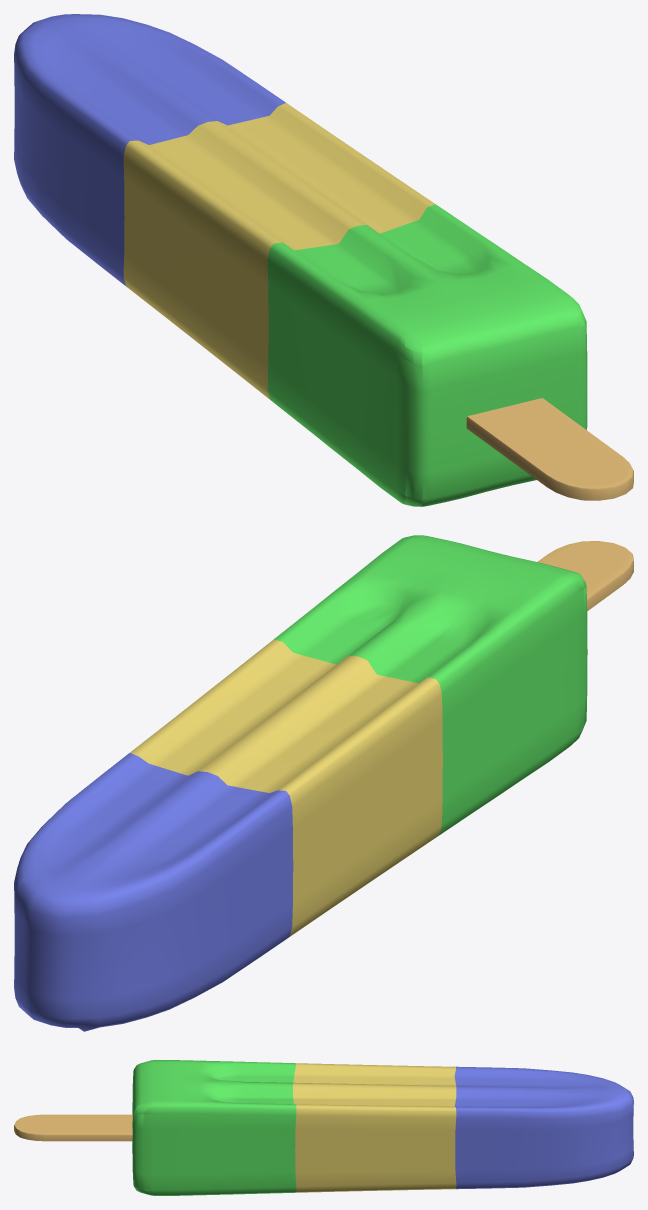
File: popsicle_3.fbx
3 renders of one model, top to bottom at view 1: azimuth 30°, elevation 25°; view 2: azimuth 150°, elevation 25°; view 3: azimuth 270°, elevation 25°, orthographic. The views are drawn at different scales.
Parts seen in each view (by area): view 1: popsicle, stick; view 2: popsicle, stick; view 3: popsicle, stick.
Part boxes in pixels (x1,y1,x2,y2): popsicle: (14,14,587,506); stick: (466,398,633,500); popsicle: (14,535,587,1031); stick: (537,541,633,610); popsicle: (132,1060,633,1195); stick: (14,1114,132,1141).
Size of the model in its own units: 14.73 by 13.38 by 80.99.
